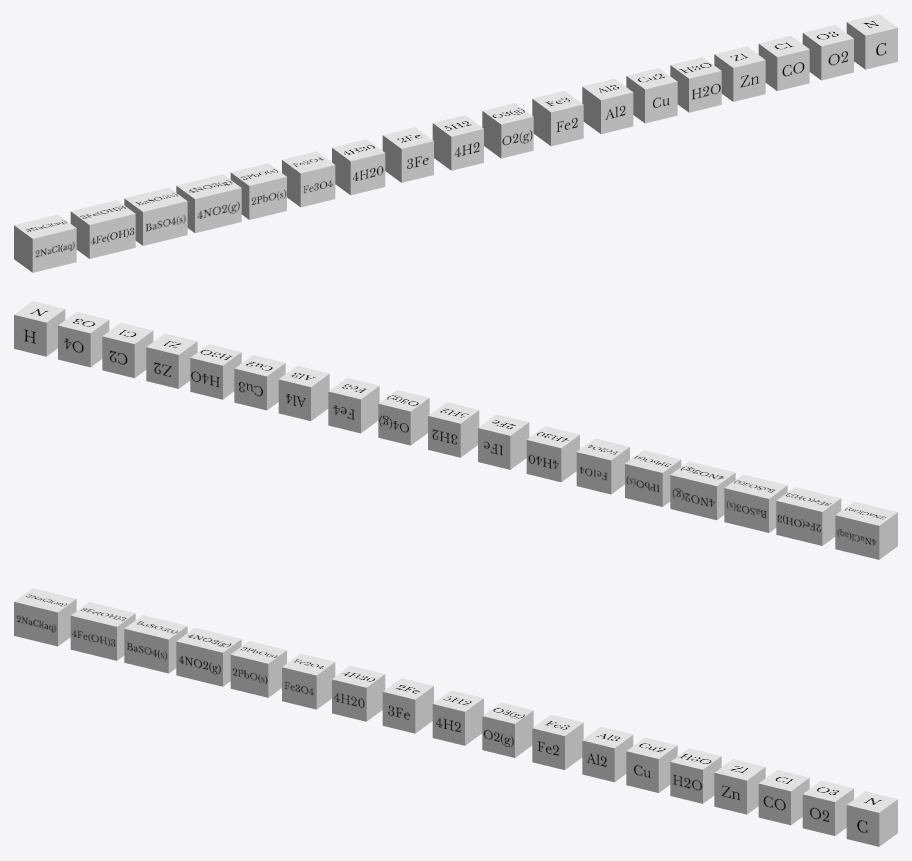
File: cubes formulas.fbx
The picture shows the model from 3 angles, top to bottom: view 1: azimuth 30°, elevation 25°; view 2: azimuth 150°, elevation 25°; view 3: azimuth 330°, elevation 25°; orthographic projection.
Parts seen in each view (by area): view 1: pCube2, pCube1, pCube4, pCube3, pCube7, pCube6, pCube11, pCube12, pCube5, pCube10, pCube9, pCube8 (+6 smaller); view 2: pCube2, pCube1, pCube4, pCube3, pCube7, pCube6, pCube11, pCube12, pCube5, pCube10, pCube9, pCube8 (+6 smaller); view 3: pCube1, pCube4, pCube2, pCube3, pCube5, pCube7, pCube6, pCube18, pCube11, pCube10, pCube8, pCube9 (+6 smaller).
Boxes of the visible parts, x1,y1,x2,y2 form: pCube2: [70, 200, 135, 258]; pCube1: [14, 214, 76, 272]; pCube4: [176, 174, 241, 233]; pCube3: [124, 187, 187, 245]; pCube7: [332, 139, 385, 195]; pCube6: [282, 151, 335, 207]; pCube11: [532, 91, 583, 146]; pCube12: [582, 78, 633, 133]; pCube5: [230, 163, 286, 219]; pCube10: [482, 103, 533, 158]; pCube9: [432, 115, 483, 170]; pCube8: [382, 127, 433, 182]; pCube2: [776, 487, 841, 545]; pCube1: [835, 501, 897, 559]; pCube4: [670, 461, 735, 520]; pCube3: [724, 474, 787, 532]; pCube7: [526, 426, 579, 482]; pCube6: [576, 438, 629, 494]; pCube11: [328, 378, 379, 433]; pCube12: [278, 365, 329, 420]; pCube5: [625, 450, 681, 506]; pCube10: [378, 390, 429, 445]; pCube9: [428, 402, 479, 457]; pCube8: [478, 414, 529, 469]; pCube1: [14, 588, 76, 646]; pCube4: [176, 627, 241, 686]; pCube2: [70, 602, 135, 660]; pCube3: [124, 615, 187, 673]; pCube5: [230, 641, 286, 697]; pCube7: [332, 665, 385, 721]; pCube6: [282, 653, 335, 709]; pCube18: [846, 791, 897, 846]; pCube11: [532, 714, 583, 769]; pCube10: [482, 702, 533, 757]; pCube8: [382, 678, 433, 733]; pCube9: [432, 690, 483, 745].
Bounding box in the file's own units: 49.94 × 1.88 × 1.88.
1 material, 1 textured.
